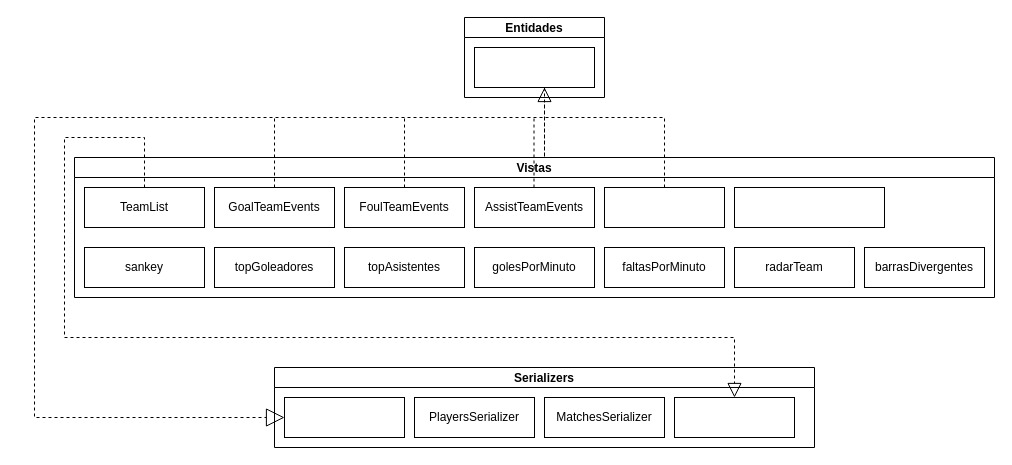
Some shapes in this 1012 by 465 pixel diagram are drawn without their labels. The shapes that lost their labels are listed below. From the top down, each one's centre as x and y in pixels, then its label:
the point at 534,67: Events
the point at 664,207: FreeKickTeamEvents
the point at 809,207: coeficienteAtaqueEquipo
the point at 344,417: EventsSerializer
the point at 734,417: TeamsSerializer
